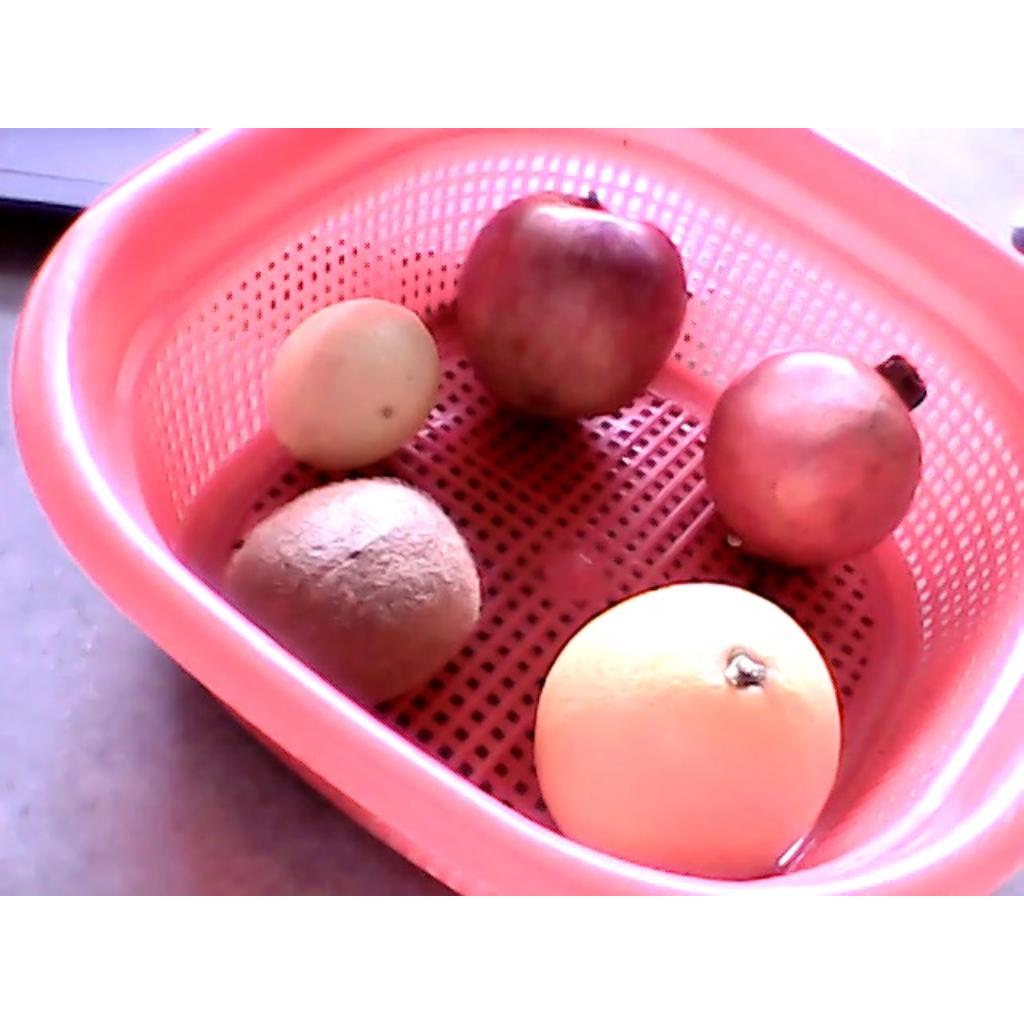apple: (456, 191, 689, 422)
kiwi: (222, 482, 479, 711)
lemon: (265, 299, 442, 471)
orange: (533, 583, 841, 878)
pomegranate: (701, 348, 927, 569)
